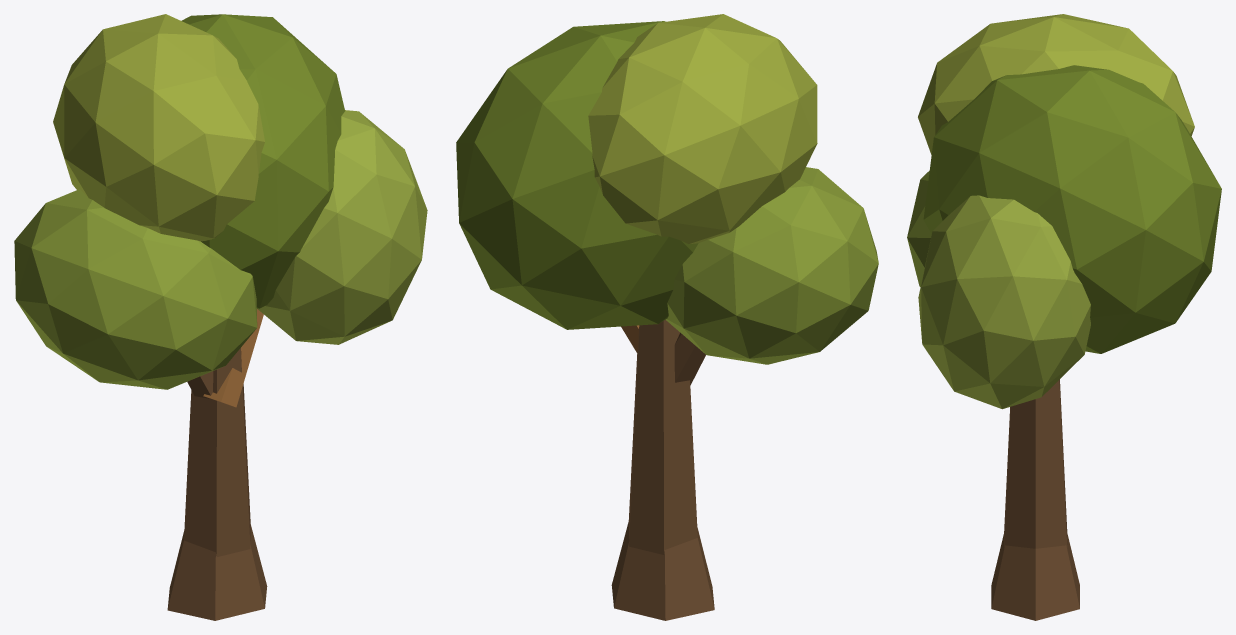
The model's file is tree-canopy-1.gltf.
3 views of the same model, side by side, from view 1: azimuth 30°, elevation 25°; view 2: azimuth 150°, elevation 25°; view 3: azimuth 270°, elevation 25° (orthographic). The views are drawn at different scales.
Parts seen in each view (by area): view 1: tree-canopy-1; view 2: tree-canopy-1; view 3: tree-canopy-1.
Part boxes in pixels (<box>): tree-canopy-1: <box>14,14,427,620</box>; tree-canopy-1: <box>456,14,878,620</box>; tree-canopy-1: <box>907,14,1221,620</box>.
Bounding box in the file's own units: 1.17 × 1.69 × 0.865.
